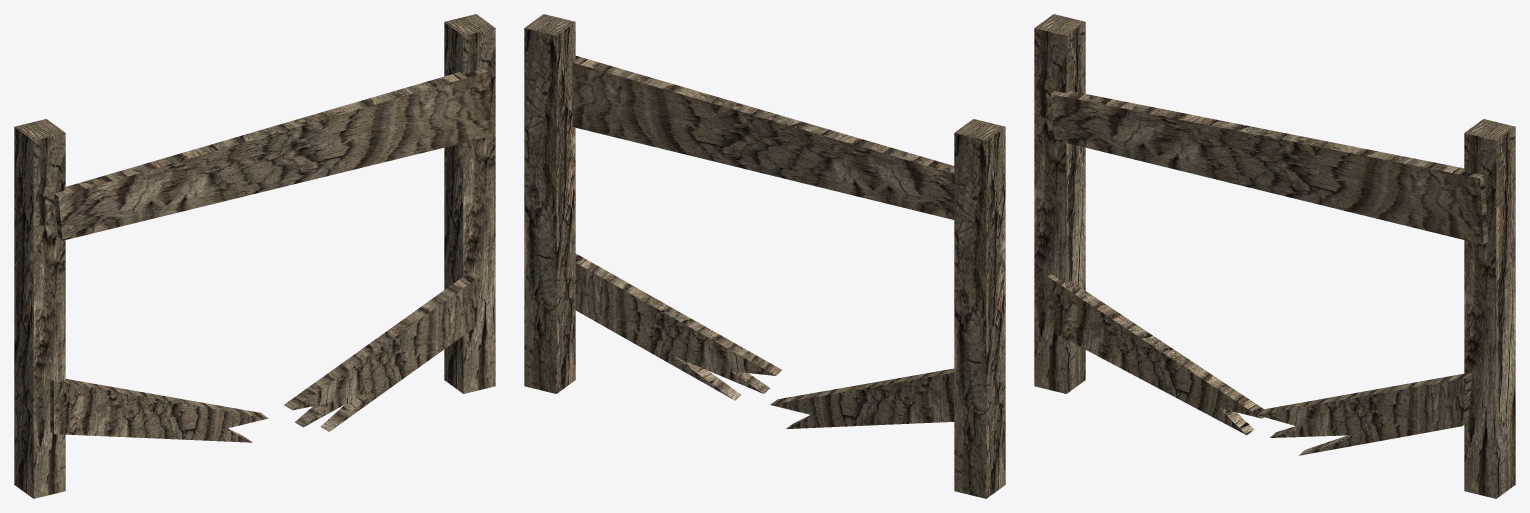
File: FenceBottomBroken.FBX
3 views of the same model, side by side, from view 1: azimuth 30°, elevation 25°; view 2: azimuth 150°, elevation 25°; view 3: azimuth 330°, elevation 25° (orthographic).
Parts seen in each view (by area): view 1: Line005, Box003, Box004, Line004, Line003; view 2: Line005, Box003, Box004, Line004, Line003; view 3: Line005, Box004, Box003, Line003, Line004.
Part boxes in pixels (left/top/right/bottom): Line005: left=54, top=68, right=491, bottom=240; Box003: left=14, top=119, right=65, bottom=498; Box004: left=444, top=14, right=495, bottom=393; Line004: left=284, top=271, right=479, bottom=431; Line003: left=50, top=378, right=268, bottom=442; Line005: left=572, top=56, right=954, bottom=219; Box003: left=954, top=119, right=1005, bottom=498; Box004: left=524, top=14, right=575, bottom=393; Line004: left=575, top=253, right=781, bottom=400; Line003: left=770, top=368, right=954, bottom=428; Line005: left=1050, top=91, right=1488, bottom=244; Box004: left=1464, top=119, right=1515, bottom=498; Box003: left=1034, top=14, right=1085, bottom=393; Line003: left=1047, top=274, right=1263, bottom=435; Line004: left=1258, top=372, right=1472, bottom=455.
Size of the model in its own units: 69.39 by 51.4 by 9.67.
Materials: 1 (1 with a texture image).
